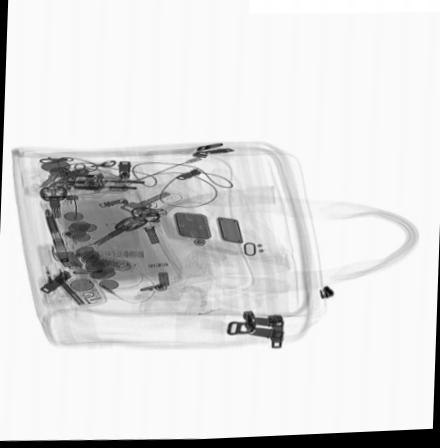Lighter: (41, 259, 70, 287)
